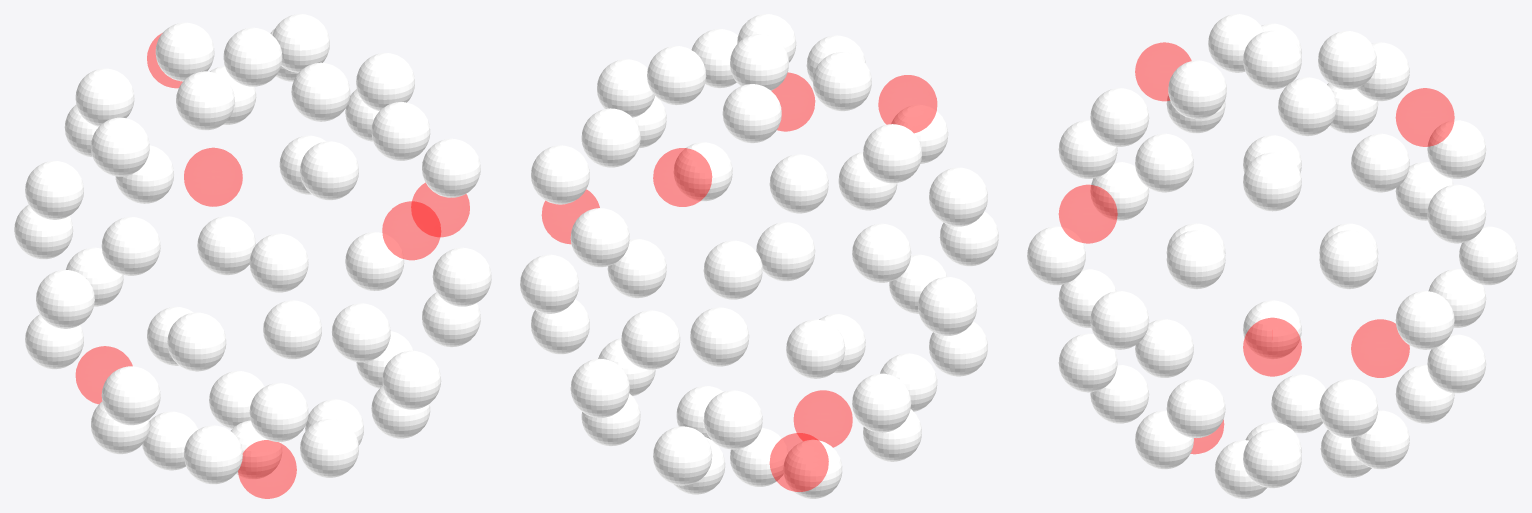
File: machine_coremind_secondary_sphere.glb
3 renders of one model, left to right at view 1: azimuth 30°, elevation 25°; view 2: azimuth 150°, elevation 25°; view 3: azimuth 270°, elevation 25°, orthographic.
Parts seen in each view (by area): view 1: machine_coremind_secondary_sphere; view 2: machine_coremind_secondary_sphere; view 3: machine_coremind_secondary_sphere.
Part boxes in pixels (bbox=[...]): machine_coremind_secondary_sphere: bbox=[14, 14, 491, 498]; machine_coremind_secondary_sphere: bbox=[520, 14, 998, 498]; machine_coremind_secondary_sphere: bbox=[1027, 14, 1517, 498].
Size of the model in its own units: 83.26 by 83.26 by 83.26.
